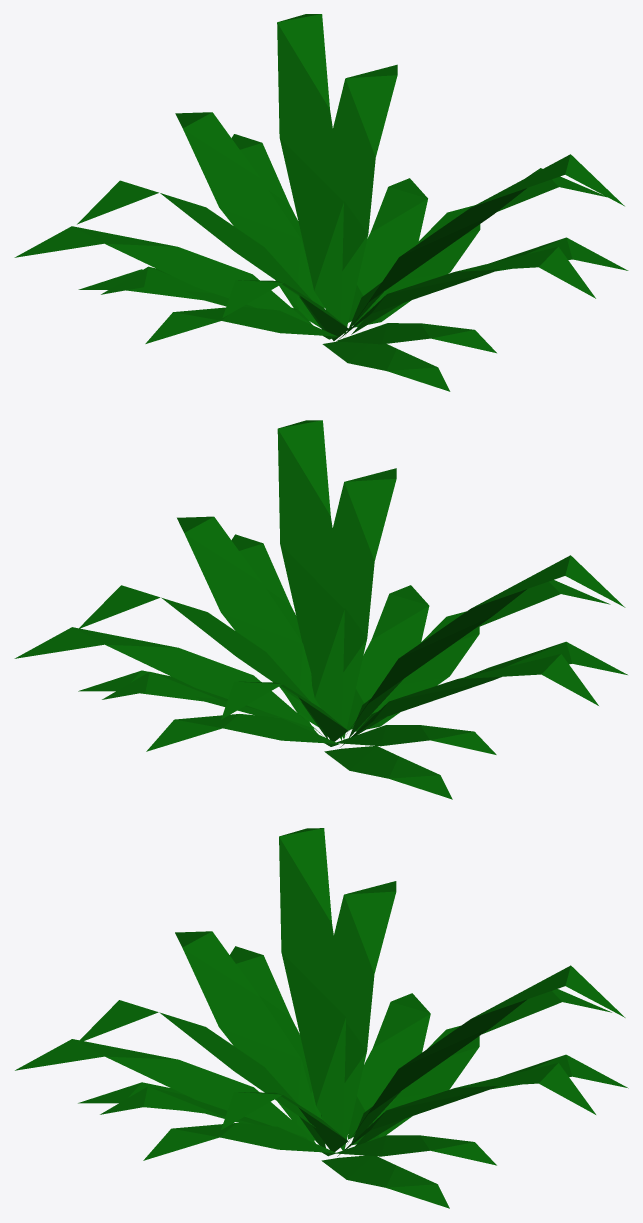
The model's file is Vegetation_Modular_New_Tropical_Plant_03.FBX.
3 renders of one model, top to bottom at view 1: azimuth 30°, elevation 25°; view 2: azimuth 150°, elevation 25°; view 3: azimuth 270°, elevation 25°, orthographic.
Visible parts, largest first — view 1: Vegetation_Modular_New_Tropical_Plant_03; view 2: Vegetation_Modular_New_Tropical_Plant_03; view 3: Vegetation_Modular_New_Tropical_Plant_03.
Boxes of the visible parts, x1,y1,x2,y2 form: Vegetation_Modular_New_Tropical_Plant_03: (14,14,628,391); Vegetation_Modular_New_Tropical_Plant_03: (14,420,627,799); Vegetation_Modular_New_Tropical_Plant_03: (15,828,628,1208).
Bounding box in the file's own units: 1817 × 743 × 1894.
